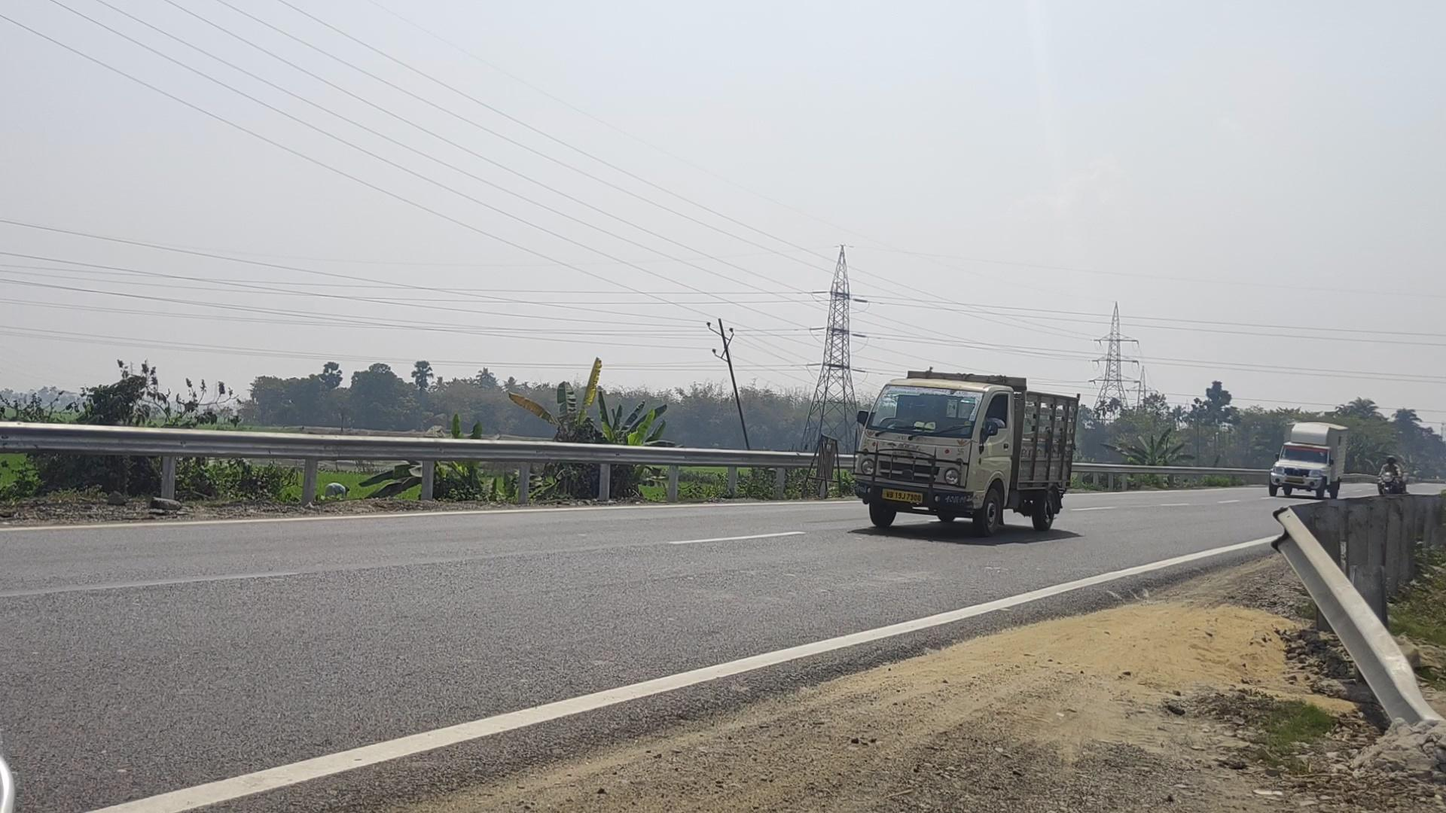bike: (1376, 455, 1406, 508)
van: (852, 370, 1080, 537), (1268, 421, 1349, 500)
